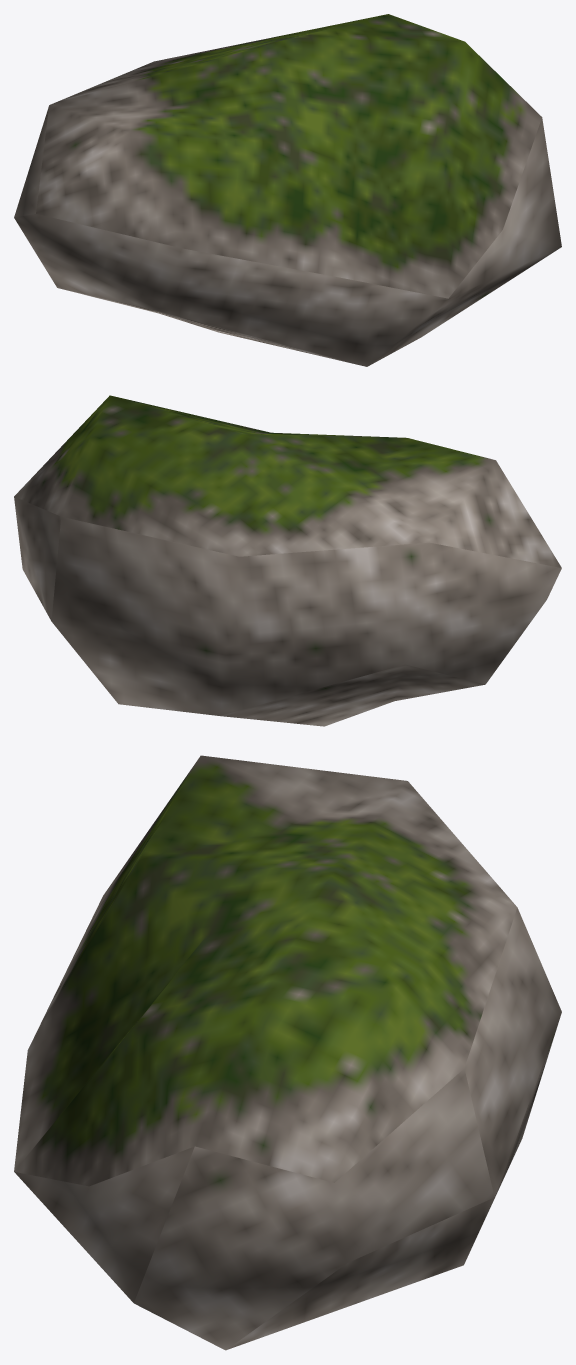
The model's file is mboulderswa_1.obj.
3 views of the same model, one above another, from view 1: azimuth 30°, elevation 25°; view 2: azimuth 150°, elevation 25°; view 3: azimuth 270°, elevation 25° (orthographic). The views are drawn at different scales.
Visible parts, largest first — view 1: mboulderswa_1; view 2: mboulderswa_1; view 3: mboulderswa_1.
Part boxes in pixels (x1,y1,x2,y2): mboulderswa_1: (14, 14, 561, 366); mboulderswa_1: (14, 395, 561, 726); mboulderswa_1: (14, 755, 561, 1350).
Bounding box in the file's own units: 2.2 × 1.13 × 1.49.
